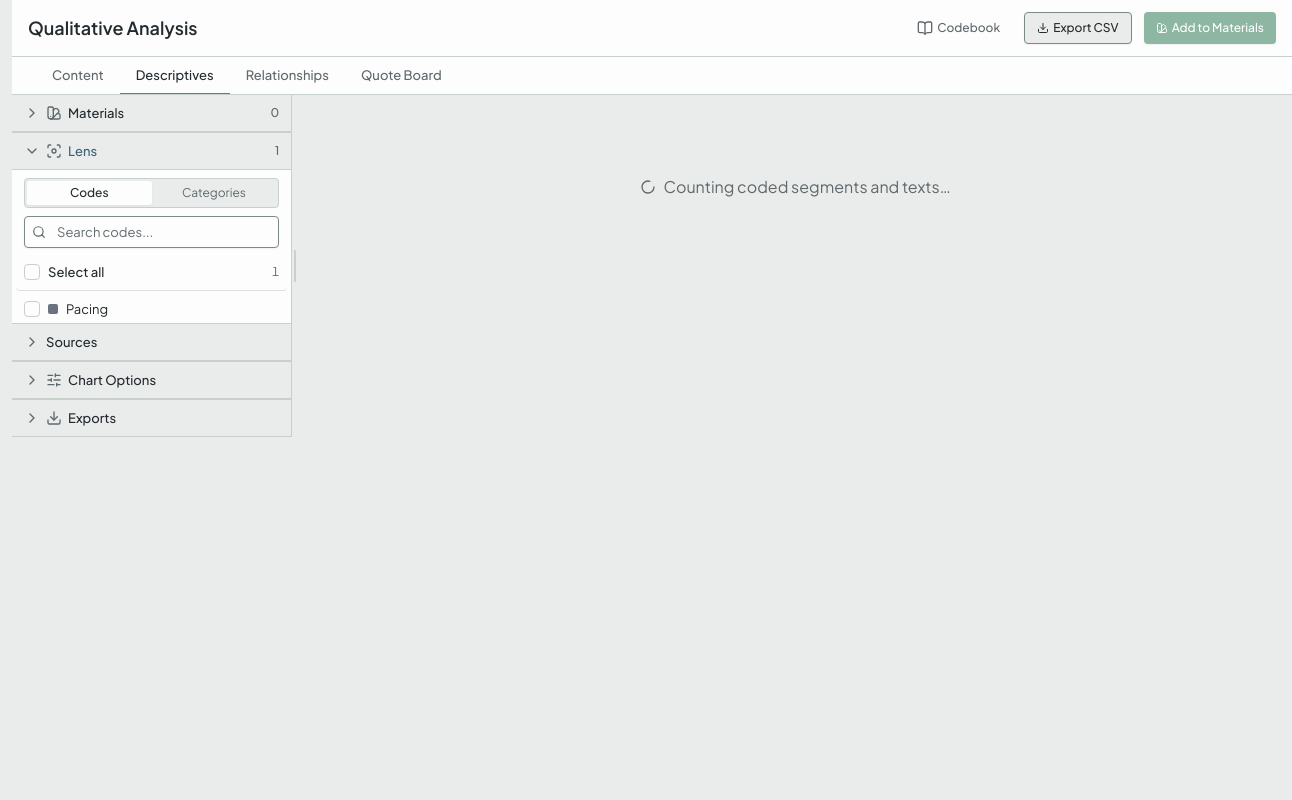
#963 — the source tree waits for all four lists before calling itself empty › LOADING one of the four: says it is loading, never "No sources available."
Click the button "Sources".
click(72, 342)  # box [12, 324, 291, 361]
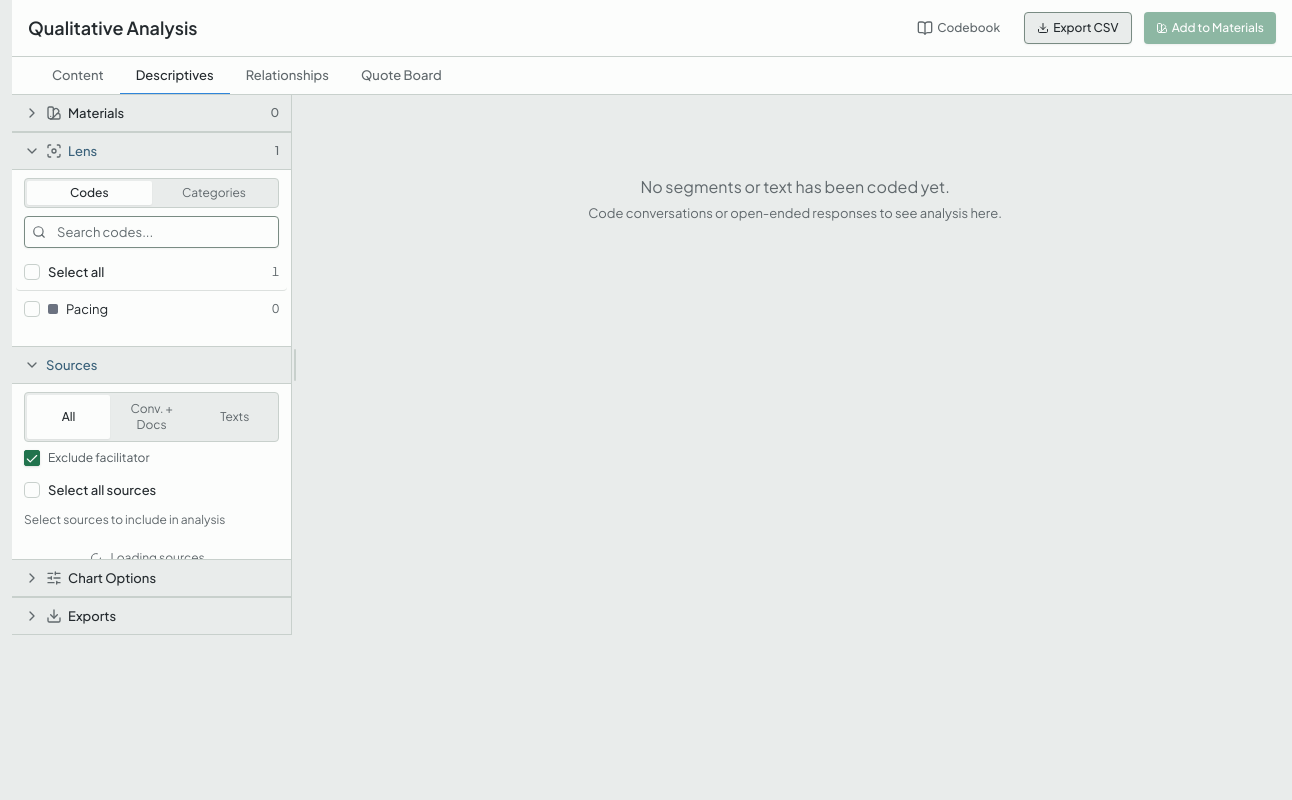
Expected: the text "Loading sources…" is shown, [110, 550, 213, 559]
